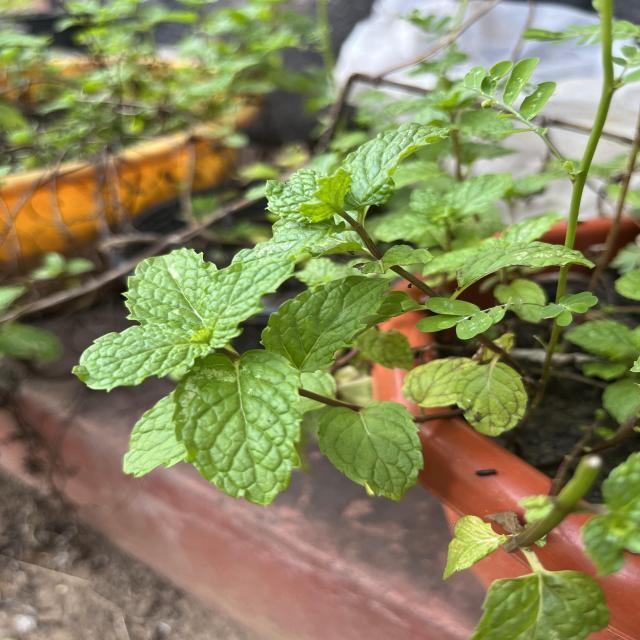Mentha spicata: (168, 348, 306, 508), (259, 274, 391, 376), (314, 400, 424, 503), (70, 320, 210, 393), (119, 246, 220, 327)
